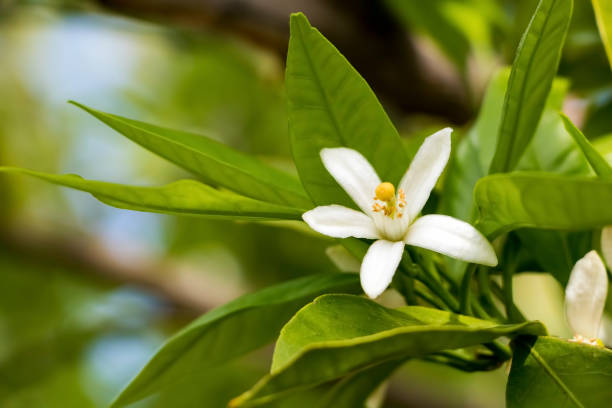flower: (292, 132, 502, 311), (534, 245, 612, 350)
